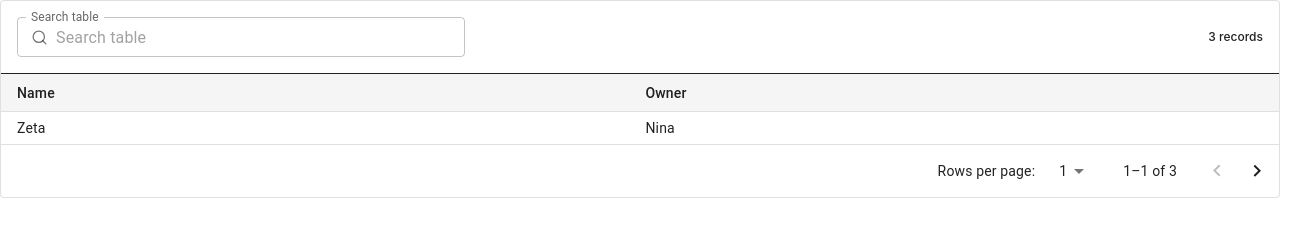
DataTable › paginates rows
Expected: the text "Zeta" is shown, [1,112,630,145]
Step 1. Click the button named "Go to next page" → (1257,171), box [1237,151,1277,191]
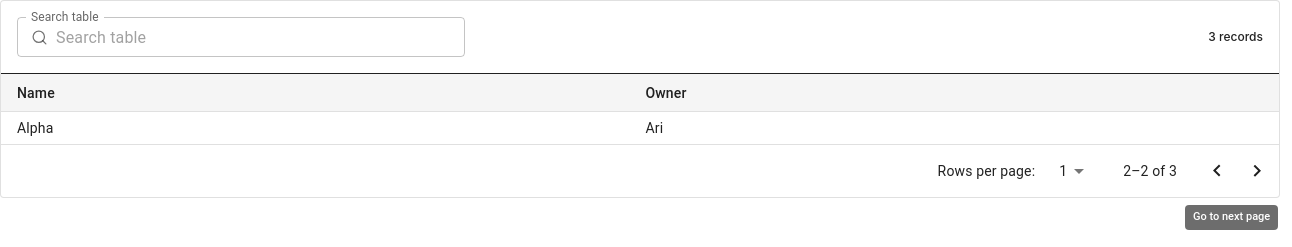
Expected: the text "Alpha" is shown, [1,112,630,145]
Expected: the text "Zeta" is gone
